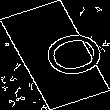O_SW: (14, 25, 96, 85)
